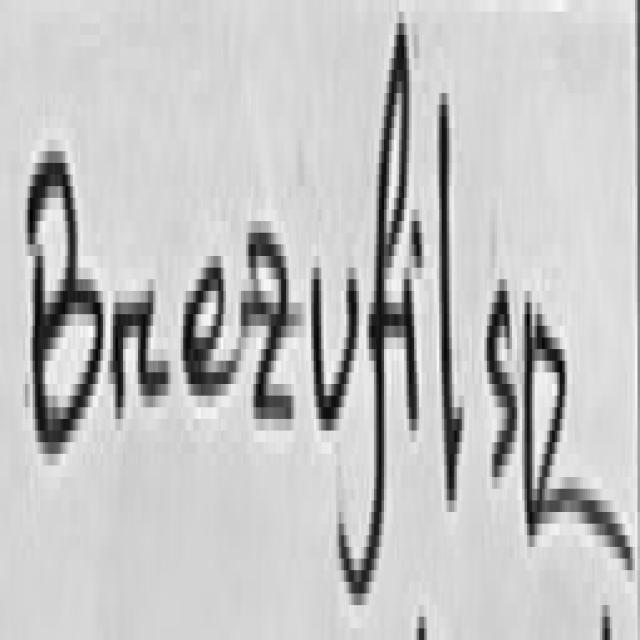B: (28, 151, 103, 448)
R: (527, 308, 635, 564)
S: (489, 291, 520, 471)
e: (183, 268, 238, 390)
f: (339, 23, 409, 599)
i: (408, 279, 419, 425), (412, 209, 424, 262)
l: (442, 93, 464, 495)
r: (115, 291, 168, 413)
u: (314, 273, 359, 425)
z: (245, 250, 294, 419)
